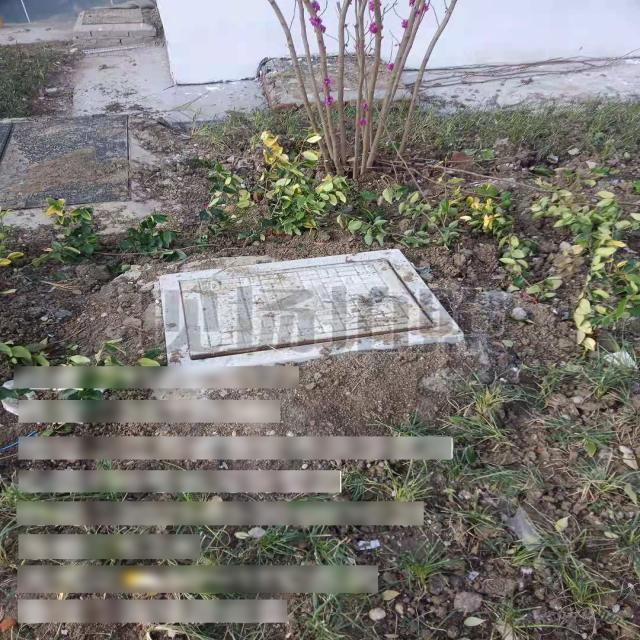Good: (157, 249, 465, 379), (0, 108, 152, 214)
